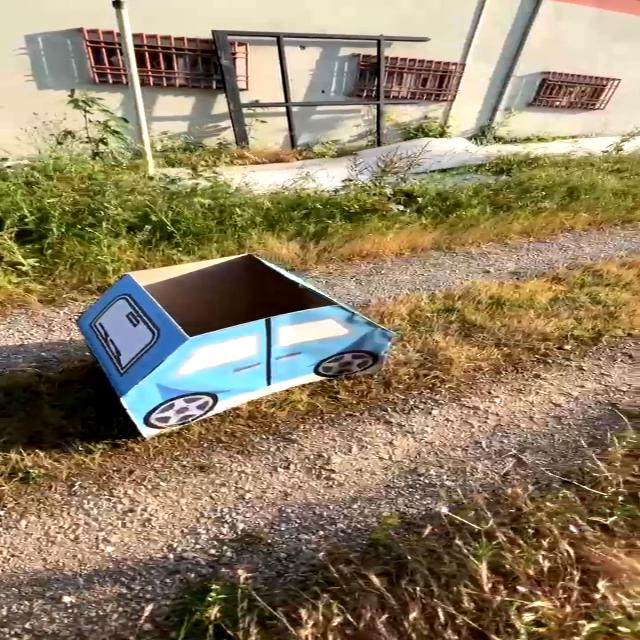blue_car: (38, 235, 430, 455)
